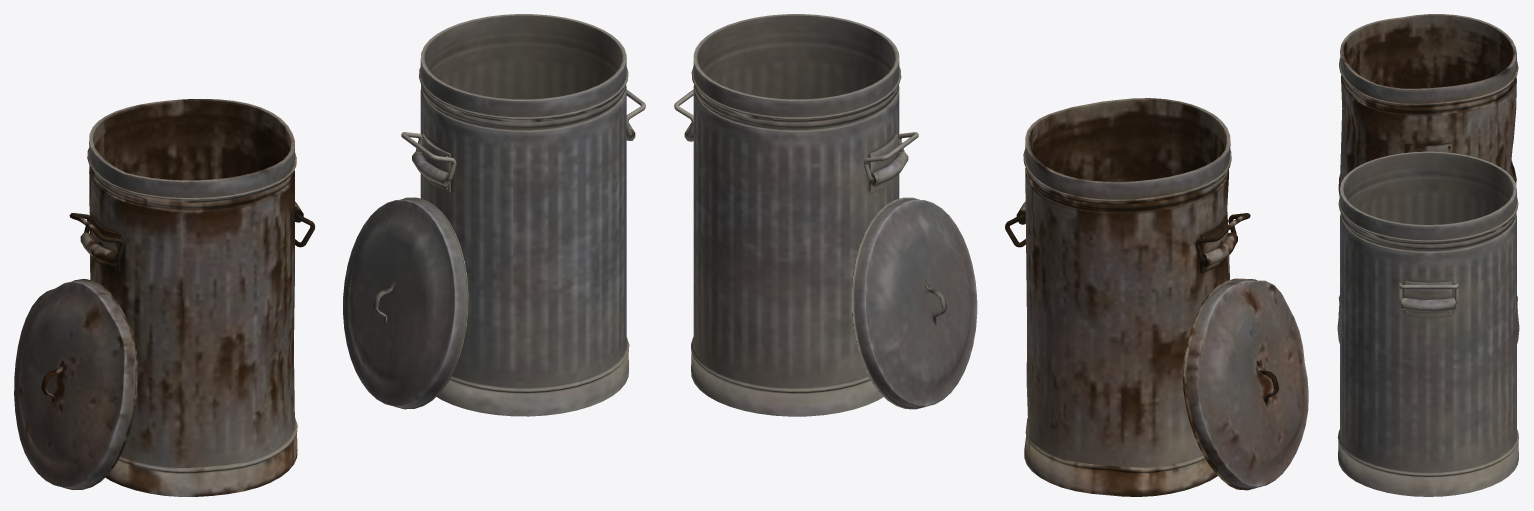
Rendered from metal_trash_can.gltf.
3 renders of one model, left to right at view 1: azimuth 30°, elevation 25°; view 2: azimuth 150°, elevation 25°; view 3: azimuth 270°, elevation 25°, orthographic. The views are drawn at different scales.
Visible parts, largest first — view 1: metal_trash_can, metal_trash_can_rust, metal_trash_can_lid, metal_trash_can_rust_lid; view 2: metal_trash_can, metal_trash_can_rust, metal_trash_can_lid, metal_trash_can_rust_lid; view 3: metal_trash_can, metal_trash_can_rust, metal_trash_can_handle_right.
Part boxes in pixels (left/top/right/bottom): metal_trash_can: left=412, top=14, right=635, bottom=416; metal_trash_can_rust: left=80, top=99, right=303, bottom=496; metal_trash_can_lid: left=343, top=197, right=468, bottom=409; metal_trash_can_rust_lid: left=14, top=279, right=137, bottom=489; metal_trash_can: left=684, top=14, right=908, bottom=416; metal_trash_can_rust: left=1016, top=98, right=1237, bottom=496; metal_trash_can_lid: left=851, top=197, right=977, bottom=409; metal_trash_can_rust_lid: left=1183, top=278, right=1308, bottom=490; metal_trash_can: left=1337, top=151, right=1518, bottom=496; metal_trash_can_rust: left=1338, top=14, right=1518, bottom=316; metal_trash_can_handle_right: left=1398, top=283, right=1458, bottom=303.
Size of the model in its own units: 1.78 by 0.9062 by 0.5543.
Materials: 2 (2 with a texture image).
